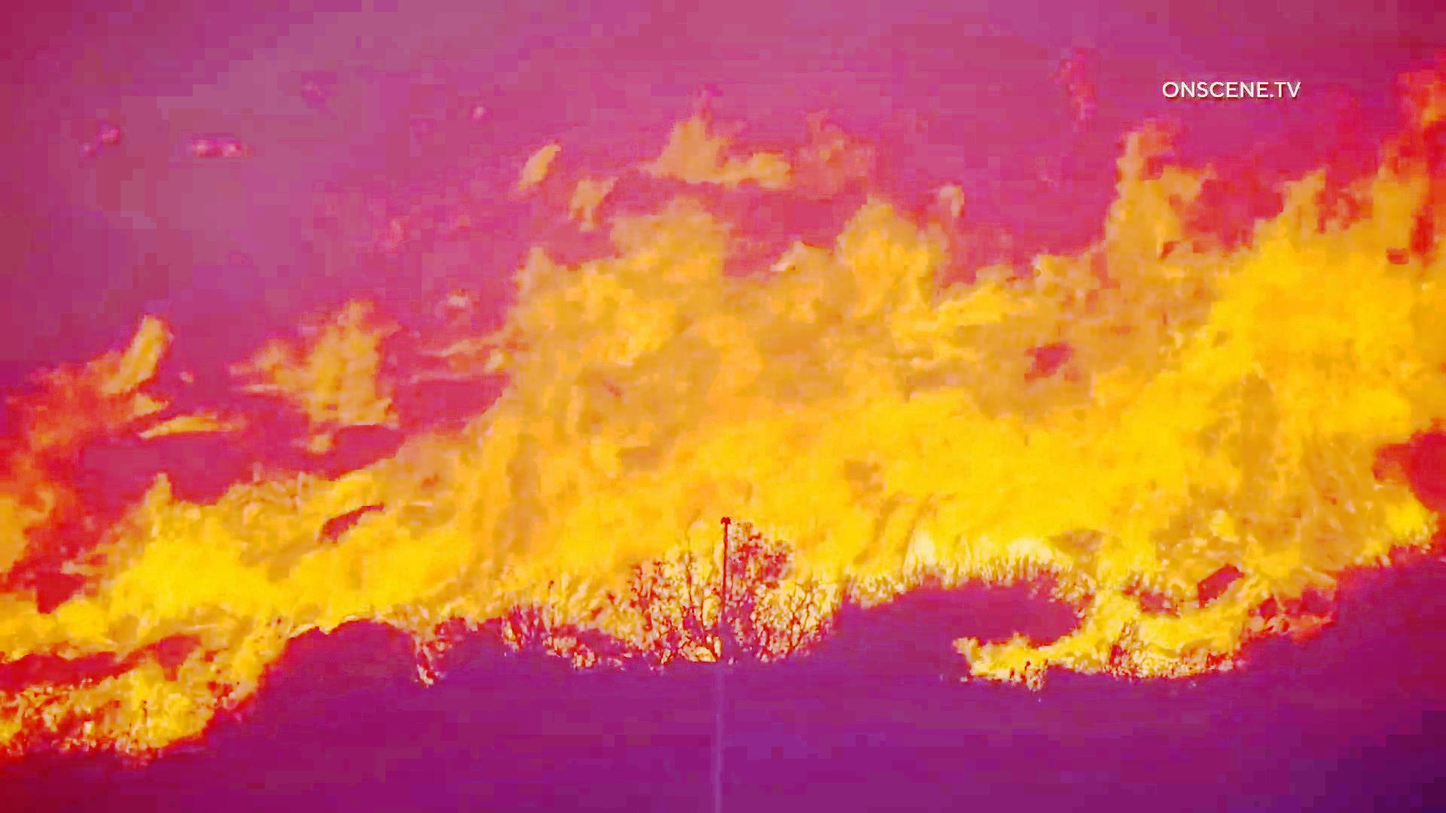fire: (908, 108, 1446, 675), (466, 87, 929, 645), (216, 130, 622, 672), (12, 294, 243, 751)
